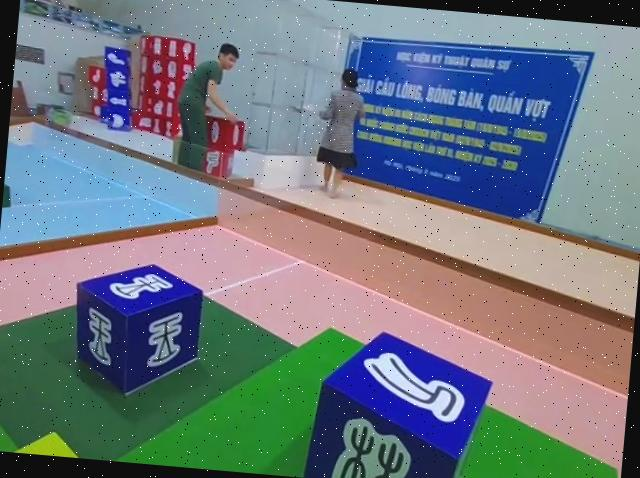R2 Fake Blue: (301, 325, 494, 478)
R2 Real Blue: (68, 258, 205, 401)
